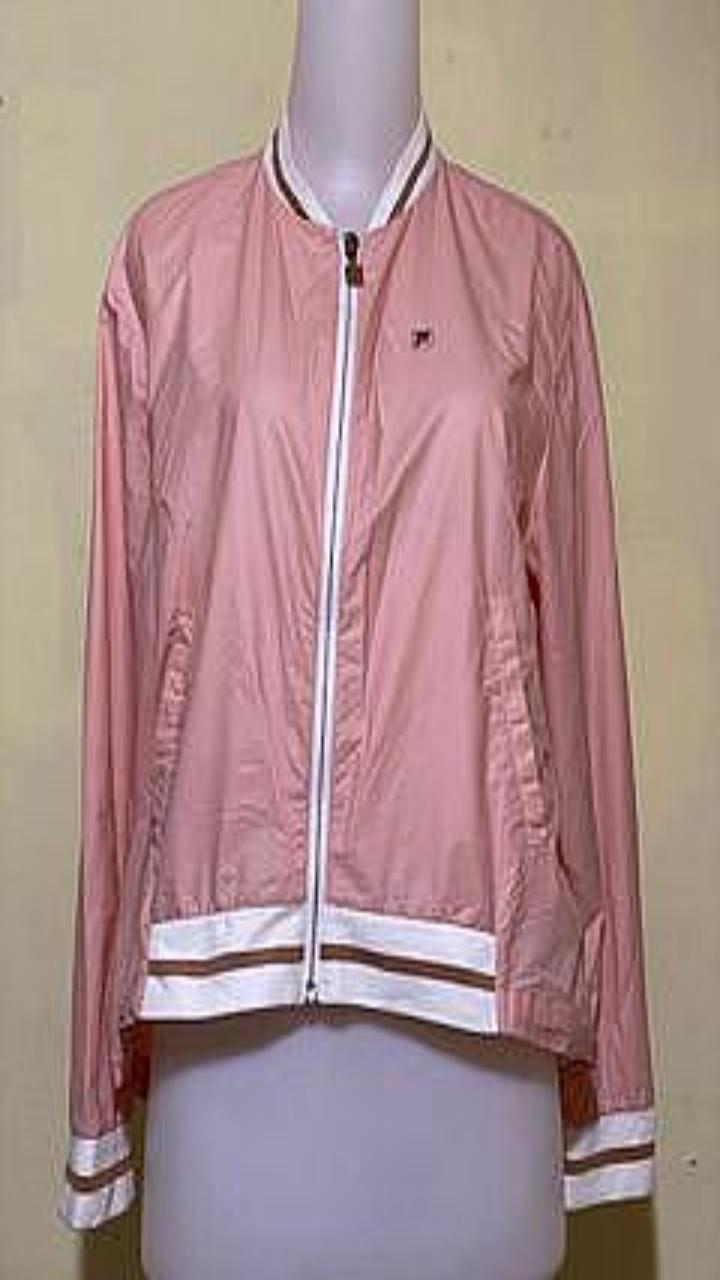Sports_Jacket: (58, 108, 655, 1229)
